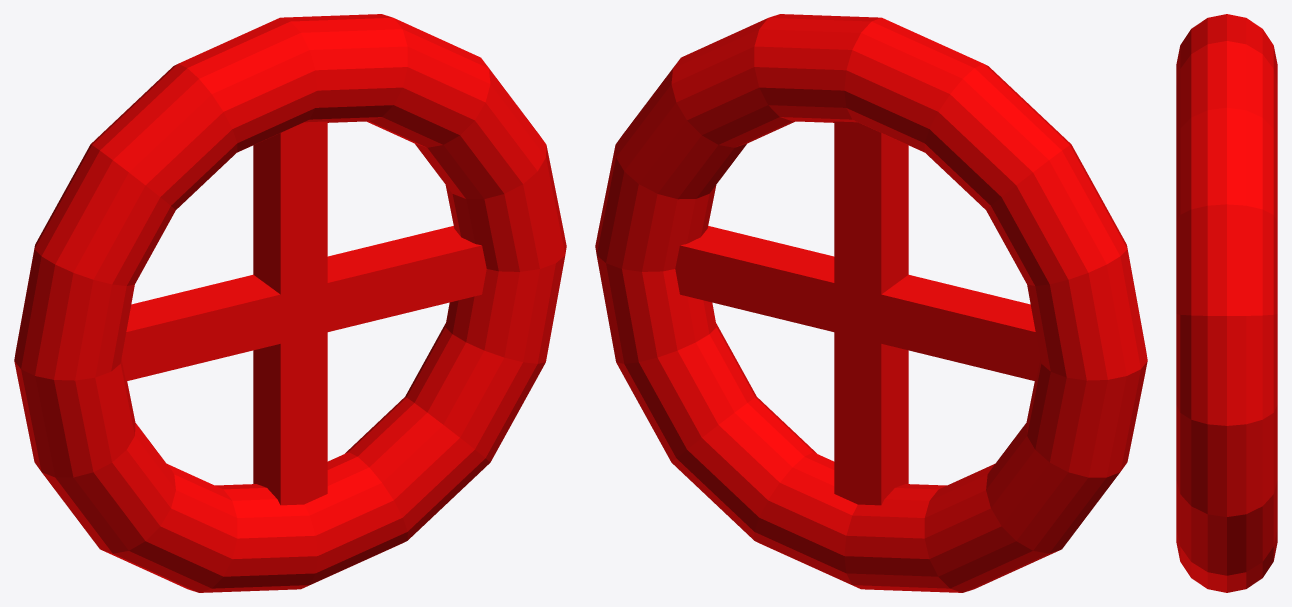
File: VALVE-HANDLE-LINK_link_mesh.dae
3 views of the same model, side by side, from view 1: azimuth 30°, elevation 25°; view 2: azimuth 150°, elevation 25°; view 3: azimuth 270°, elevation 25° (orthographic). The views are drawn at different scales.
Visible parts, largest first — view 1: VALVE-HANDLE-LINK_link (×3); view 2: VALVE-HANDLE-LINK_link (×3); view 3: VALVE-HANDLE-LINK_link.
Boxes of the visible parts, x1,y1,x2,y2 form: VALVE-HANDLE-LINK_link (×3): [14, 14, 566, 592]; VALVE-HANDLE-LINK_link (×3): [595, 14, 1147, 592]; VALVE-HANDLE-LINK_link: [1176, 14, 1277, 592].
Size of the model in its own units: 0.315 by 0.315 by 0.055.
